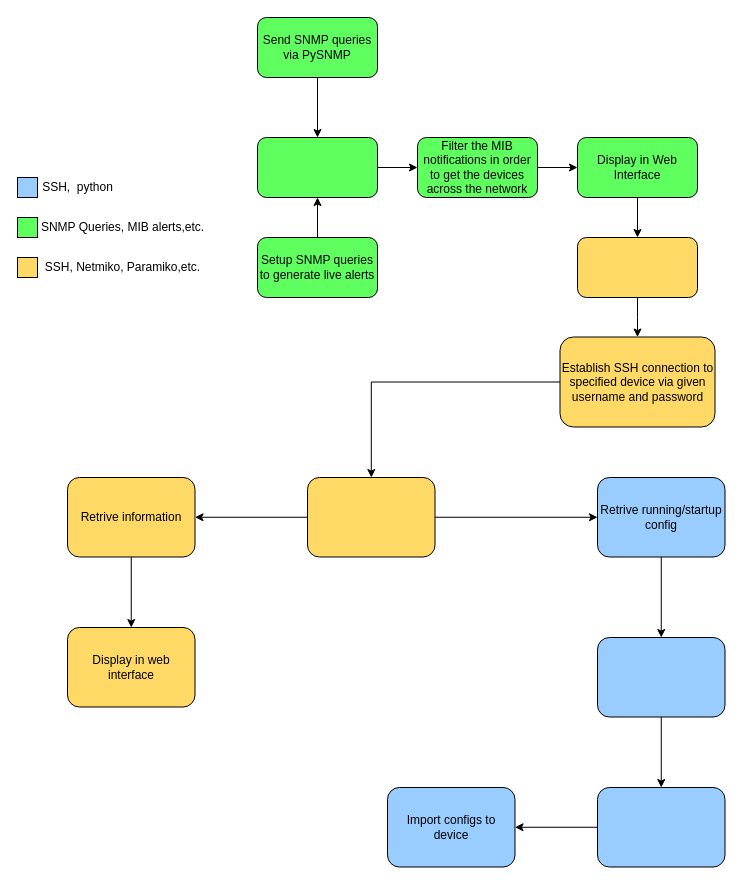
This 743x885 diagram has some shape labels left out. The shapes that lost their labels are listed below. From the top down, each one's centre as x and y in pixels, then its label:
the point at 317,167: Receive the MIB notification/alerts via Devices
the point at 637,267: Login Devices
the point at 370,516: Send commands via Netmiko,Paramiko, etc. to the devices
the point at 660,676: Export config to files
the point at 660,826: Retrive config from file
